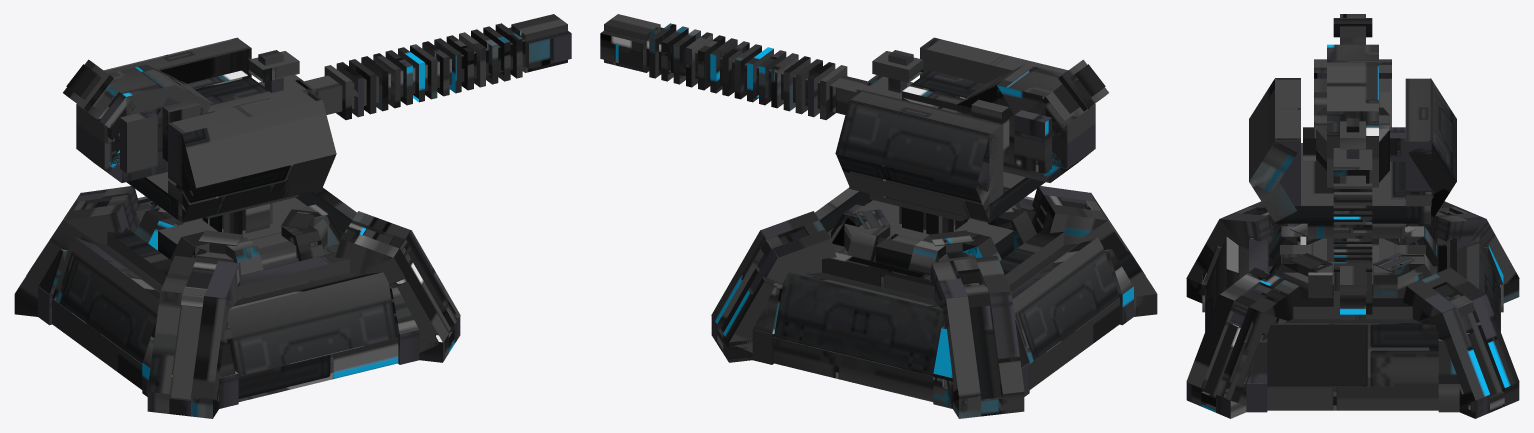
The model's file is kinetic_cannon_1_medium.obj.
3 views of the same model, side by side, from view 1: azimuth 30°, elevation 25°; view 2: azimuth 150°, elevation 25°; view 3: azimuth 270°, elevation 25° (orthographic). The views are drawn at different scales.
Parts seen in each view (by area): view 1: cube; view 2: cube; view 3: cube.
Boxes of the visible parts, box(x1,y1,x2,y2) form: cube: box(14, 14, 571, 418); cube: box(600, 14, 1157, 418); cube: box(1186, 14, 1519, 418).
Bounding box in the file's own units: 4.99 × 2.85 × 3.21.
